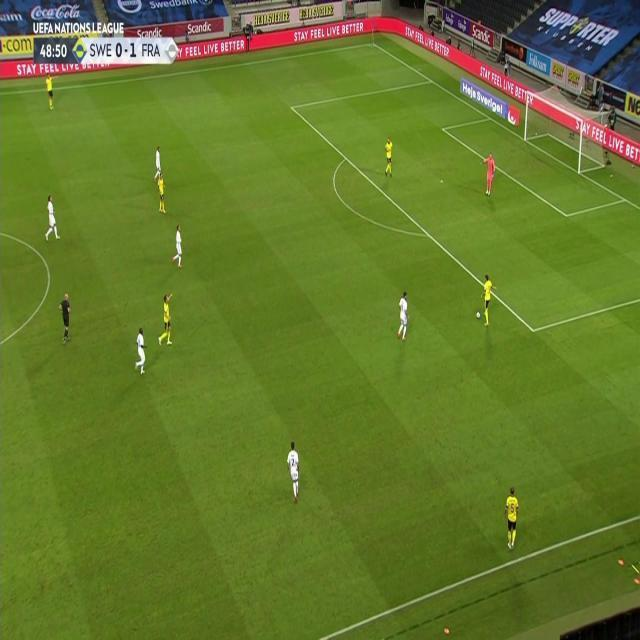ball: (475, 309, 481, 319)
goalkeeper: (482, 150, 497, 196)
player: (502, 484, 520, 552), (284, 441, 302, 505), (477, 273, 496, 327), (157, 292, 174, 348), (44, 194, 61, 242), (395, 289, 410, 341), (133, 326, 148, 376), (171, 223, 184, 269), (156, 172, 167, 215), (383, 135, 394, 177), (45, 72, 56, 111), (153, 145, 163, 183)
referee: (58, 290, 72, 346)
